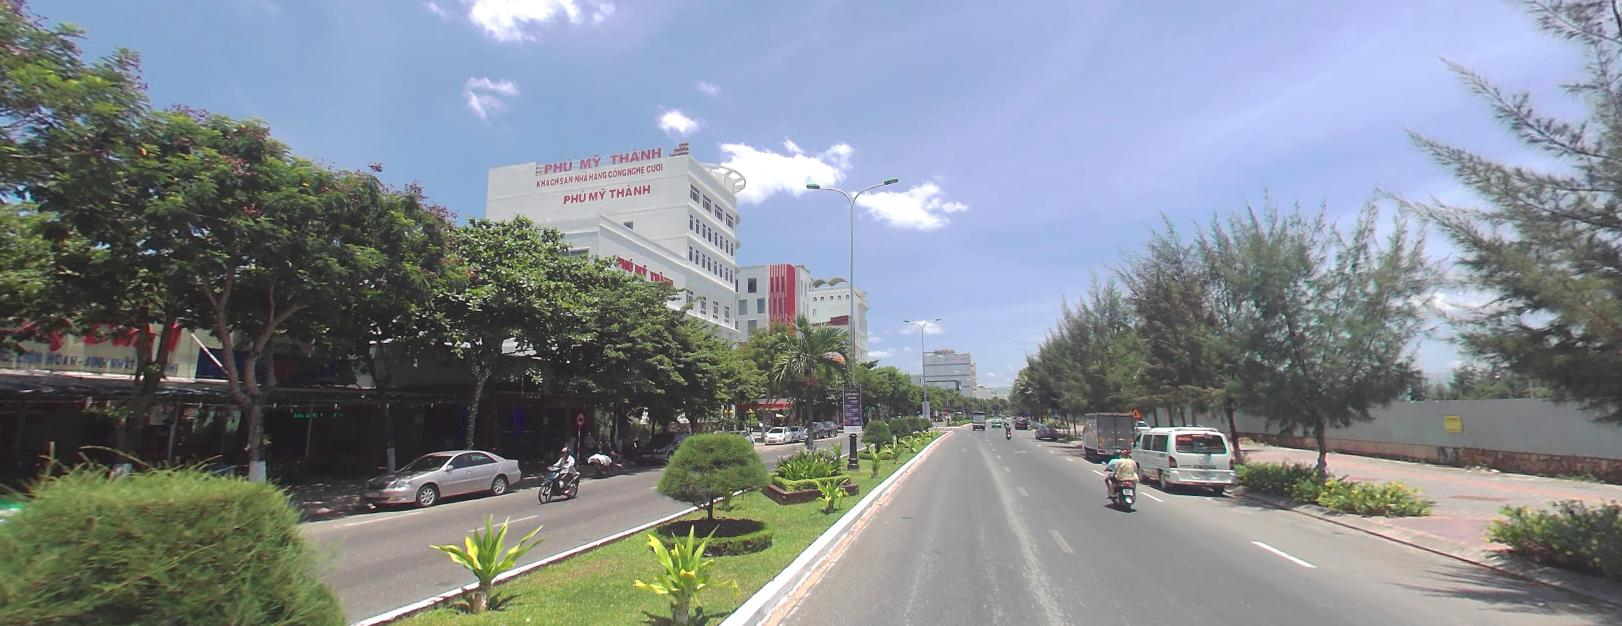Cam con lai: (575, 409, 585, 424)
Cam nguoc chieu: (943, 409, 947, 413)
Nguy hiem: (1129, 406, 1142, 417)
